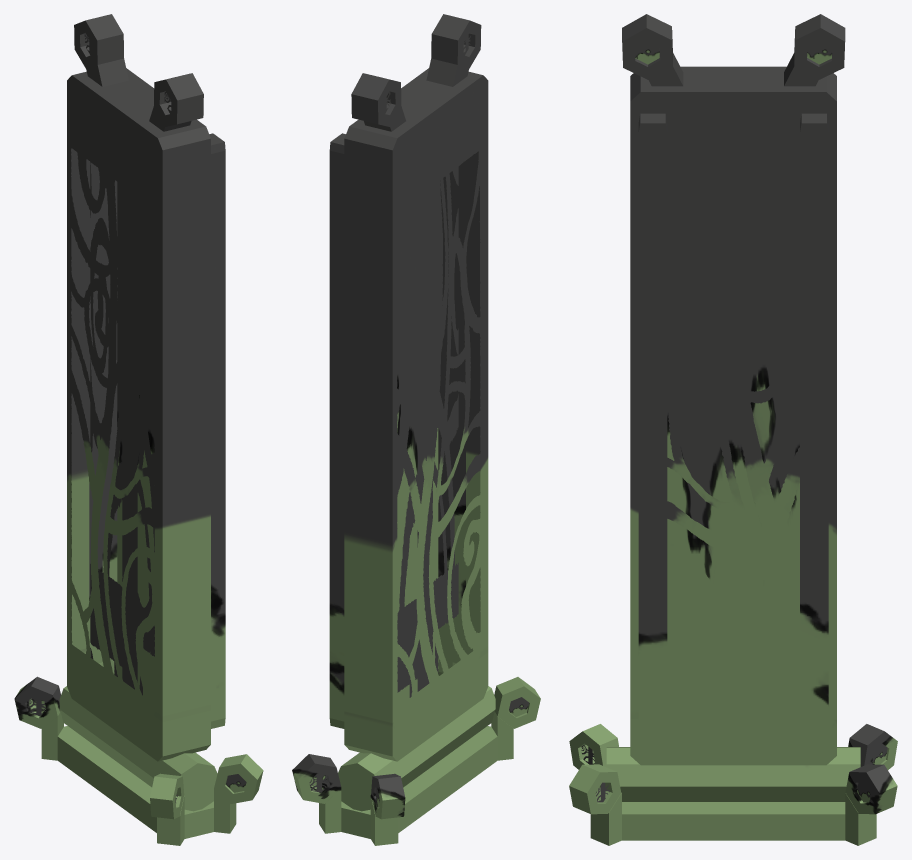
File: Ancient Bridge.fbx
3 renders of one model, left to right at view 1: azimuth 30°, elevation 25°; view 2: azimuth 150°, elevation 25°; view 3: azimuth 270°, elevation 25°, orthographic. The views are drawn at different scales.
Parts seen in each view (by area): view 1: Bridge1, Light, Base, Base_Light; view 2: Bridge1, Light, Base, Base_Light; view 3: Bridge1, Light, Base, Base_Light.
Part boxes in pixels (x1,y1,x2,y2): Bridge1: (59, 14, 225, 811); Light: (84, 33, 171, 698); Base: (14, 676, 263, 845); Base_Light: (27, 697, 246, 802); Bridge1: (329, 14, 495, 811); Light: (384, 35, 470, 706); Base: (292, 677, 540, 845); Base_Light: (309, 697, 528, 806); Bridge1: (606, 14, 860, 801); Light: (635, 41, 832, 706); Base: (569, 724, 897, 845); Base_Light: (581, 744, 887, 802).
Size of the model in its own units: 1.93 by 12.08 by 4.48.
